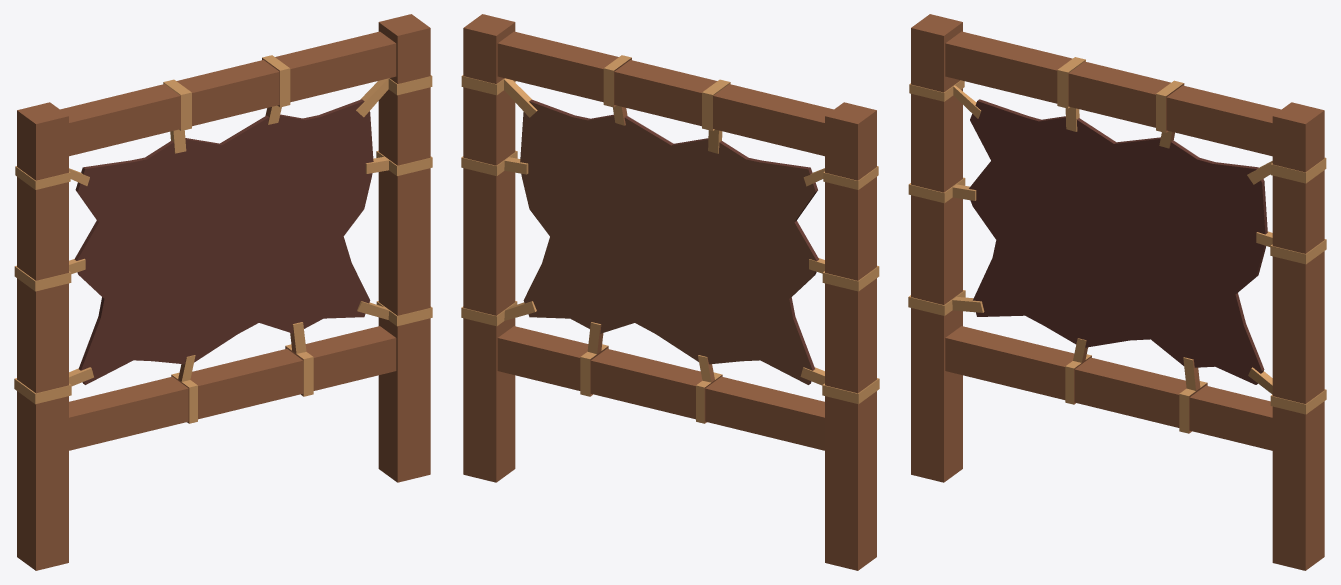
Rendered from leather.fbx.
3 views of the same model, side by side, from view 1: azimuth 30°, elevation 25°; view 2: azimuth 150°, elevation 25°; view 3: azimuth 330°, elevation 25° (orthographic).
Visible parts, largest first — view 1: Cube; view 2: Cube; view 3: Cube.
Part boxes in pixels (left/top/right/bottom): Cube: left=14, top=14, right=432, bottom=570; Cube: left=461, top=14, right=879, bottom=570; Cube: left=908, top=14, right=1326, bottom=570.
Bounding box in the file's own units: 119 × 127 × 10.83.
